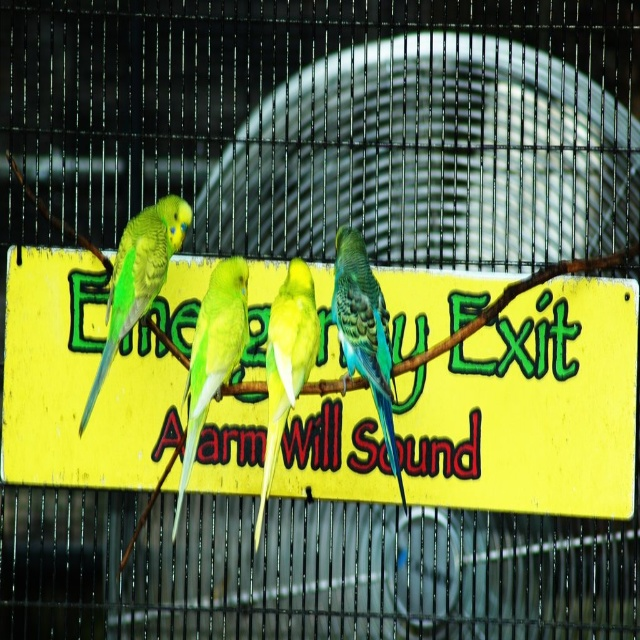Parrot: (72, 191, 195, 440), (170, 252, 249, 542), (330, 223, 408, 514), (250, 254, 320, 550)
